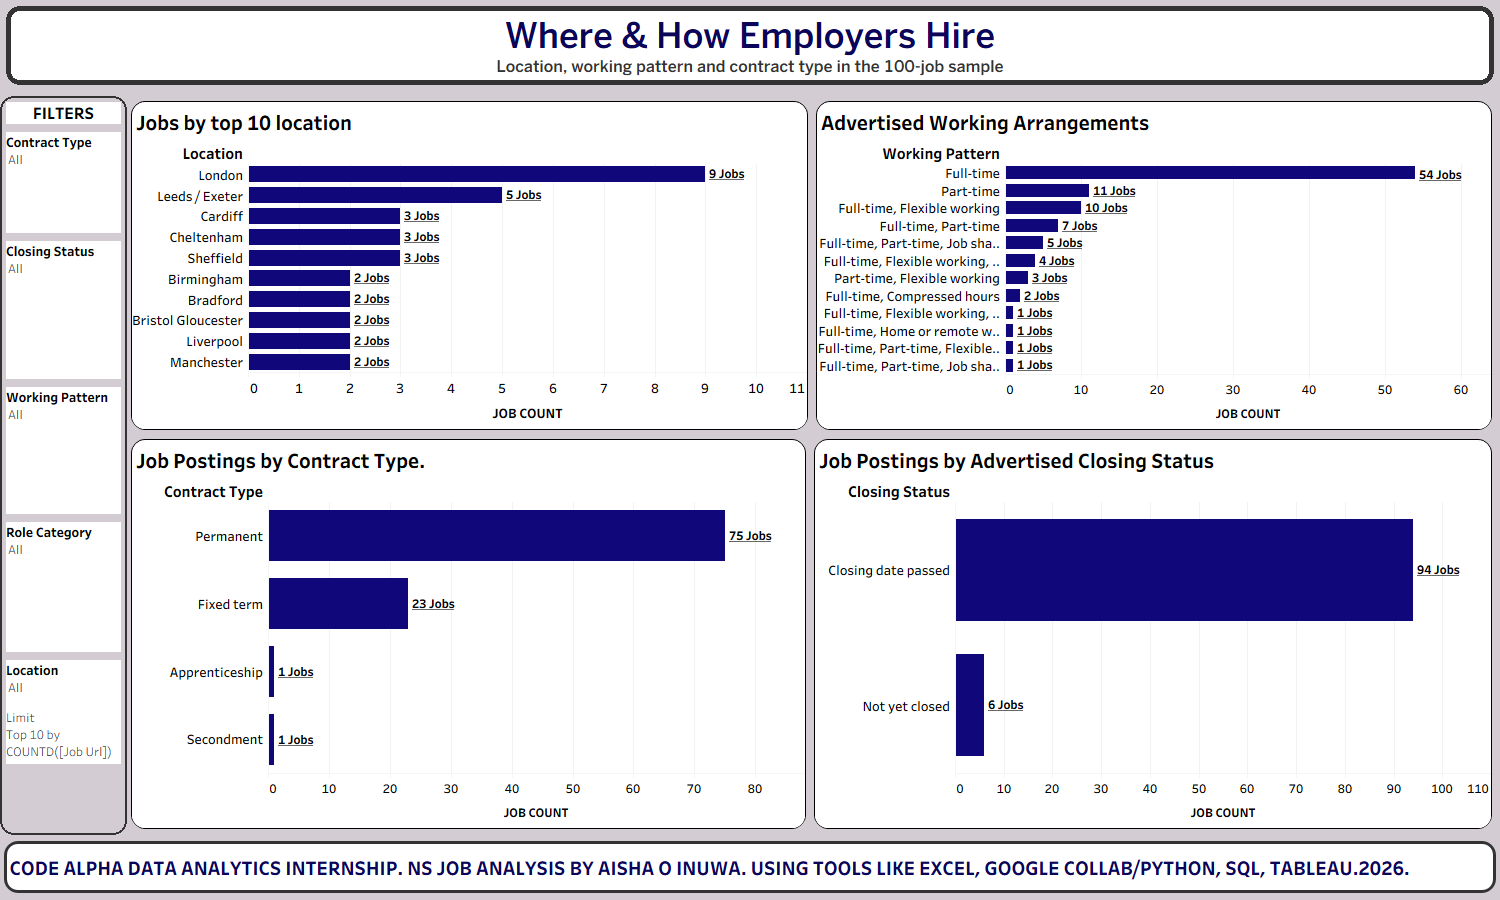

Layout of this report page (visuals, bound fields, positions):
{"tool":"tableau","page":{"name":"03 - Where & How Employers Hire","canvas":[1500,900],"ordinal":2},"visuals":[{"type":"text","box":[0,0,1500,91]},{"type":"worksheet","title":"Jobs by Location","mark":"Automatic","rows":["location"],"cols":["job_url"],"box":[127,97,685,337]},{"type":"worksheet","title":"Working Arrangements","mark":"Automatic","rows":["working_pattern"],"cols":["job_url"],"box":[812,97,684,337]},{"type":"text","box":[2,98,123,30]},{"type":"filter","title":"Contract Types","param":"[federated.1nn643n09ulxx41ei394o1m8o3l9].[none:contract_type:nk]","box":[2,128,123,109]},{"type":"filter","title":"Closing Status","param":"[federated.1nn643n09ulxx41ei394o1m8o3l9].[none:closing_status:nk]","box":[2,237,123,146]},{"type":"filter","title":"Working Arrangements","param":"[federated.1nn643n09ulxx41ei394o1m8o3l9].[none:working_pattern:nk]","box":[2,383,123,135]},{"type":"worksheet","title":"Contract Types","mark":"Automatic","rows":["contract_type"],"cols":["job_url"],"box":[127,435,682.5,398]},{"type":"worksheet","title":"Closing Status","mark":"Bar","rows":["closing_status"],"cols":["job_url"],"box":[809.5,435,686.5,398]},{"type":"filter","title":"Working Arrangements","param":"[federated.1nn643n09ulxx41ei394o1m8o3l9].[none:role_category:nk]","box":[2,518,123,138]},{"type":"filter","title":"Jobs by Location","param":"[federated.1nn643n09ulxx41ei394o1m8o3l9].[none:location:nk]","box":[2,656,123,112]},{"type":"text","box":[0,837,1500,60]}]}

Visuals, with their boxes in screenshot pixels (x1, y1, x2, y2), scaled from the page's 1500x900 canvas onto the 1500x900 screenshot:
text: (left=0, top=0, right=1499, bottom=91)
"Jobs by Location" worksheet: (left=127, top=97, right=812, bottom=434)
"Working Arrangements" worksheet: (left=812, top=97, right=1496, bottom=434)
text: (left=2, top=98, right=125, bottom=128)
"Contract Types" filter: (left=2, top=128, right=125, bottom=237)
"Closing Status" filter: (left=2, top=237, right=125, bottom=383)
"Working Arrangements" filter: (left=2, top=383, right=125, bottom=518)
"Contract Types" worksheet: (left=127, top=435, right=810, bottom=833)
"Closing Status" worksheet (Bar marks): (left=810, top=435, right=1496, bottom=833)
"Working Arrangements" filter: (left=2, top=518, right=125, bottom=656)
"Jobs by Location" filter: (left=2, top=656, right=125, bottom=768)
text: (left=0, top=837, right=1499, bottom=897)
